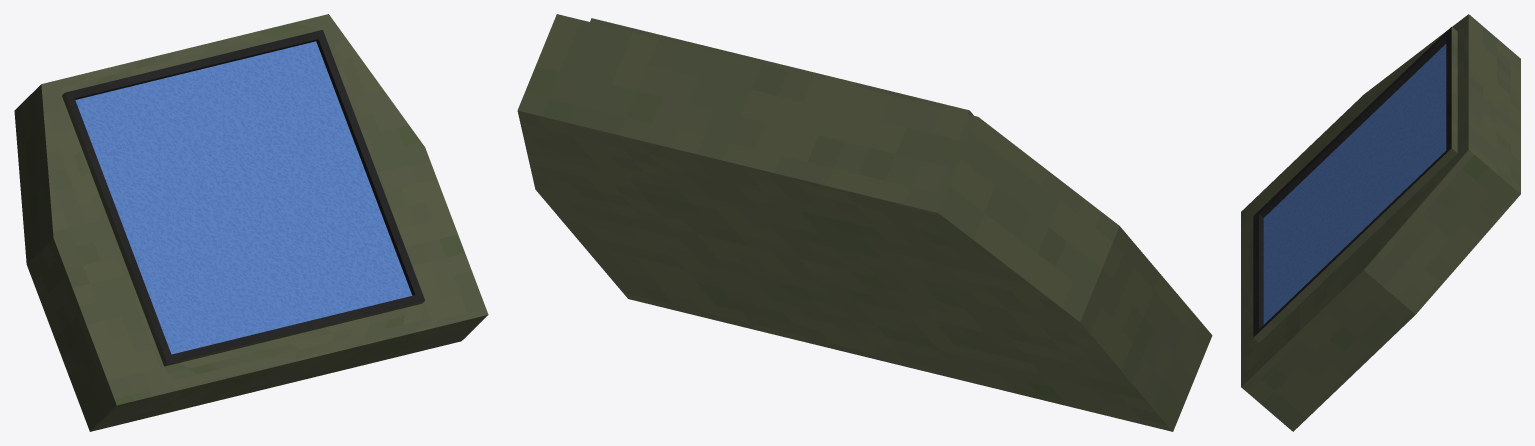
File: monitor.glb
3 renders of one model, left to right at view 1: azimuth 30°, elevation 25°; view 2: azimuth 150°, elevation 25°; view 3: azimuth 270°, elevation 25°, orthographic. The views are drawn at different scales.
Parts seen in each view (by area): view 1: Cube.009; view 2: Cube.009; view 3: Cube.009.
Part boxes in pixels (x1,y1,x2,y2): Cube.009: (14, 14, 488, 431); Cube.009: (517, 14, 1212, 431); Cube.009: (1241, 14, 1520, 431).
Size of the model in its own units: 0.7242 by 0.5048 by 0.4877.
3 materials, 3 textured.
